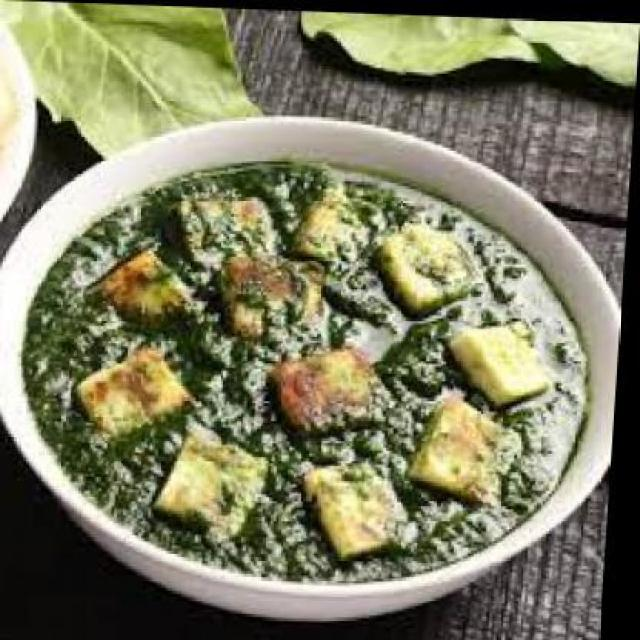palak_paneer: (15, 151, 603, 589)
